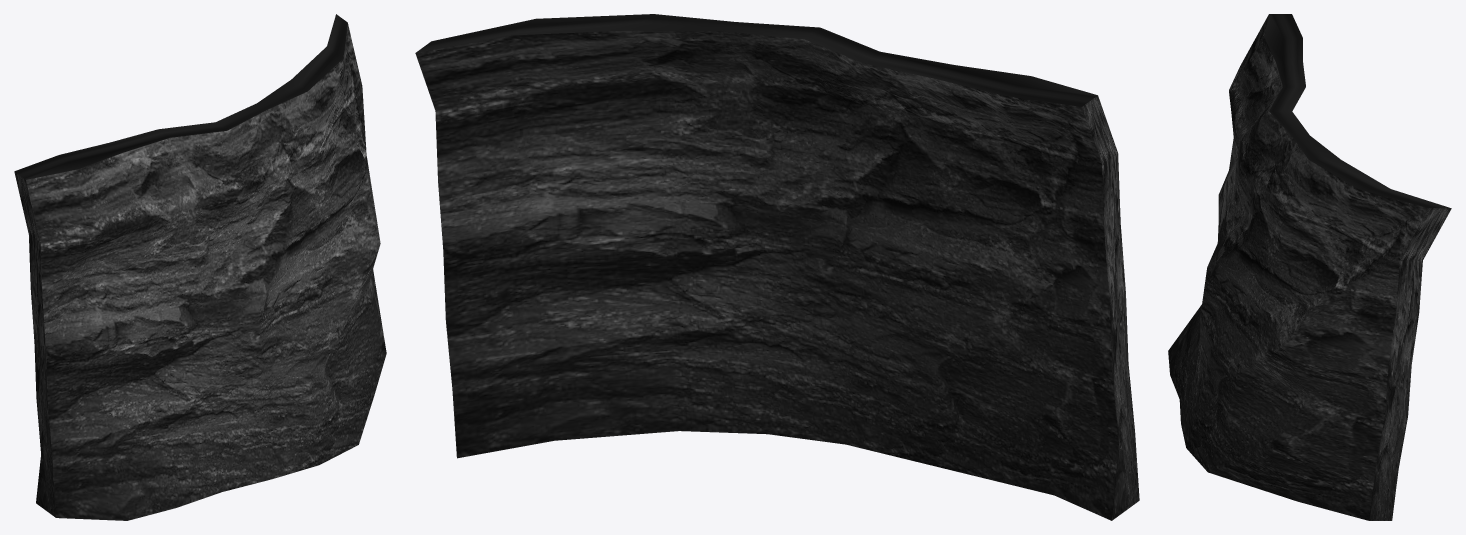
The model's file is Wand_Rechts.fbx.
3 renders of one model, left to right at view 1: azimuth 30°, elevation 25°; view 2: azimuth 150°, elevation 25°; view 3: azimuth 270°, elevation 25°, orthographic. The views are drawn at different scales.
Visible parts, largest first — view 1: Box001; view 2: Box001; view 3: Box001.
Part boxes in pixels (x1,y1,x2,y2): Box001: (14, 14, 386, 520); Box001: (415, 14, 1139, 520); Box001: (1168, 14, 1451, 520).
Size of the model in its own units: 20 by 15 by 12.34.
1 material, 1 textured.
